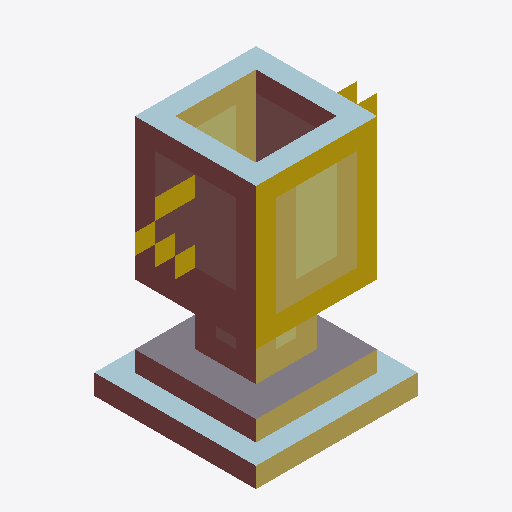
Isometric view (azimuth 45°, elevation 35.3°) of a Minecraft model made of 10 cuboids, textured from the same repository.
Visible parts, largest first — element 6, Base, element 2, element 5, element 4, element 7, element 8, element 3, element 9.
Boxes of the visible parts, box(x1,y1,x2,y2) form: element 6: box(135, 105, 275, 325); Base: box(94, 349, 417, 488); element 2: box(135, 315, 376, 441); element 5: box(256, 116, 356, 313); element 4: box(236, 46, 376, 266); element 7: box(155, 58, 255, 161); element 8: box(135, 256, 376, 348); element 3: box(195, 314, 316, 383); element 9: box(135, 175, 194, 278).
Size of the model in its own units: 12 by 12 by 8.